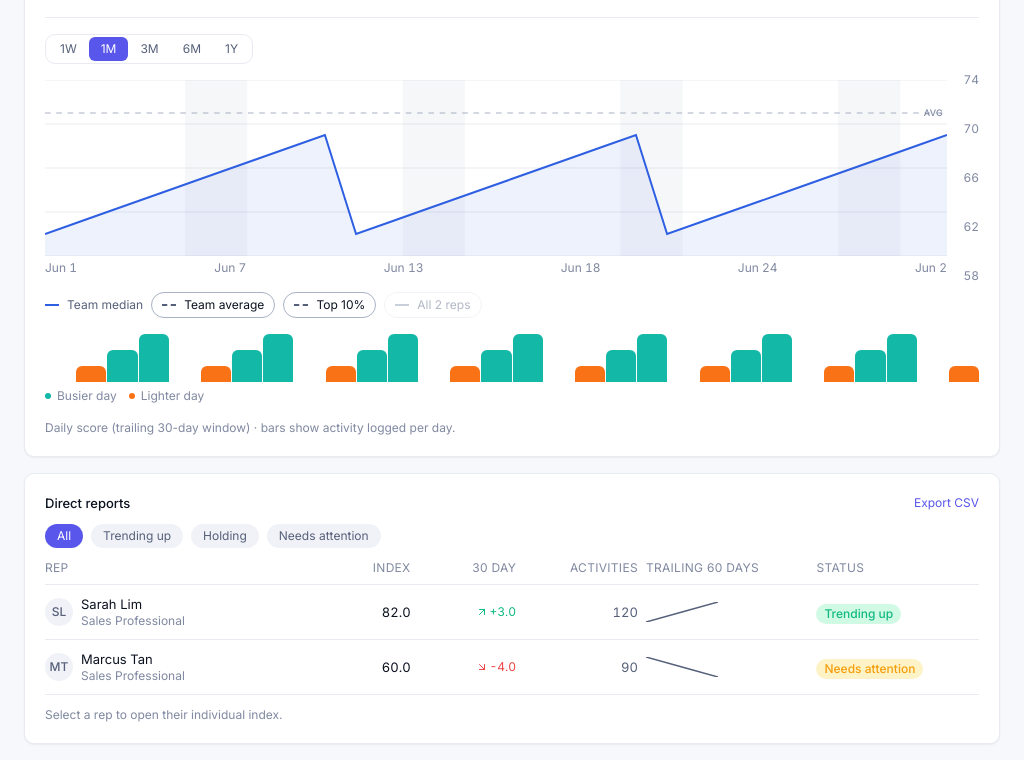
Test case: PersistenceIndexReport › shows the eligible/recovered counts near the re-engagement row for a selected rep
(page scrolled)
Click the text "Sarah Lim" at {"x": 112, "y": 604}, box [81,596,142,612]
(page scrolled)
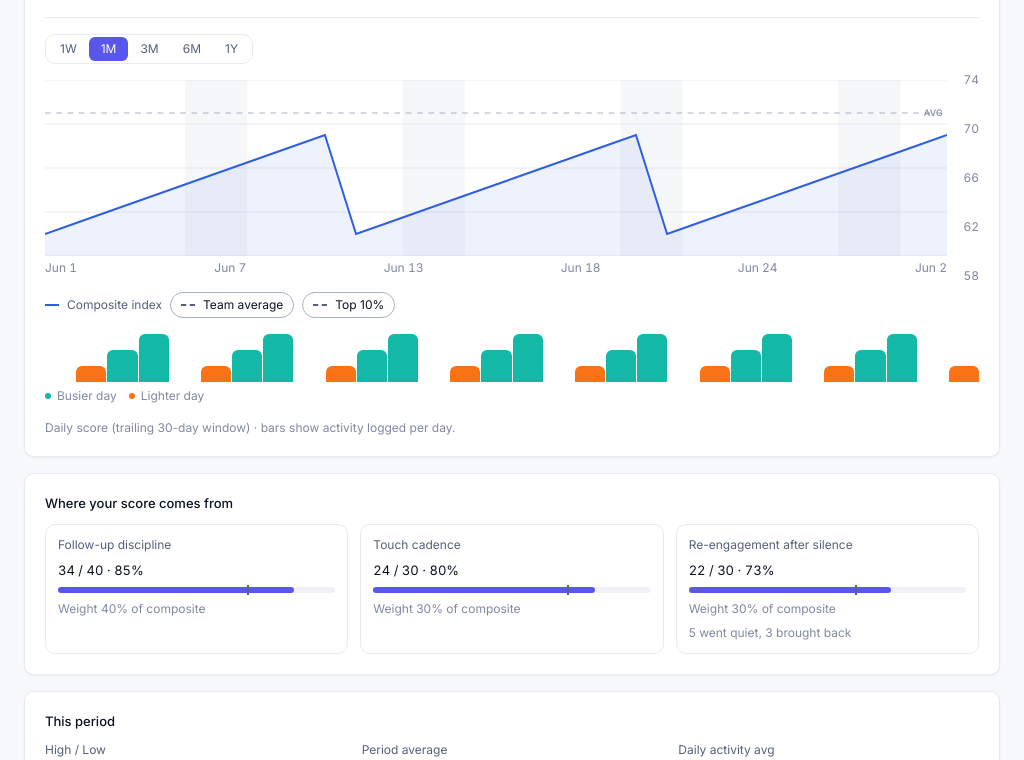
Result: the text "5 went quiet, 3 brought back" is shown at [689,625,852,640]
